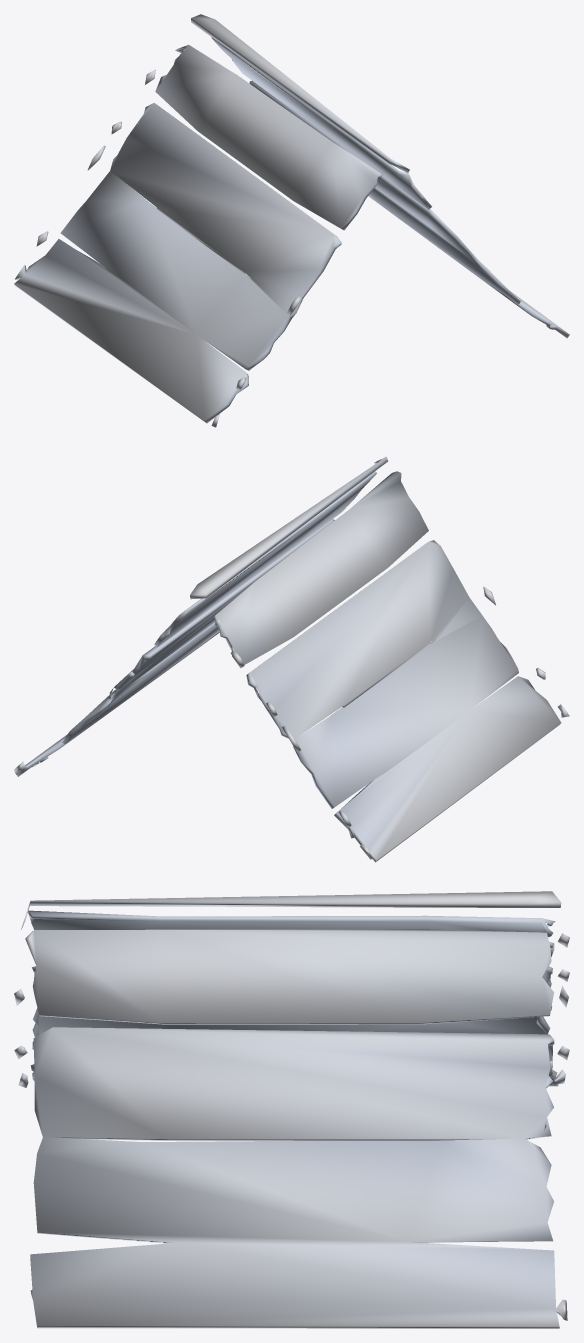
File: protocol.balancer.snow.glb
The picture shows the model from 3 angles, top to bottom: view 1: azimuth 30°, elevation 25°; view 2: azimuth 150°, elevation 25°; view 3: azimuth 270°, elevation 25°; orthographic projection. The views are drawn at different scales.
Visible parts, largest first — view 1: building.protocol.balancer.snow.mesh; view 2: building.protocol.balancer.snow.mesh; view 3: building.protocol.balancer.snow.mesh.
Part boxes in pixels (x1,y1,x2,y2): building.protocol.balancer.snow.mesh: (14, 14, 569, 427); building.protocol.balancer.snow.mesh: (14, 456, 569, 862); building.protocol.balancer.snow.mesh: (14, 891, 569, 1328).
Bounding box in the file's own units: 5.31 × 3.18 × 5.13.
